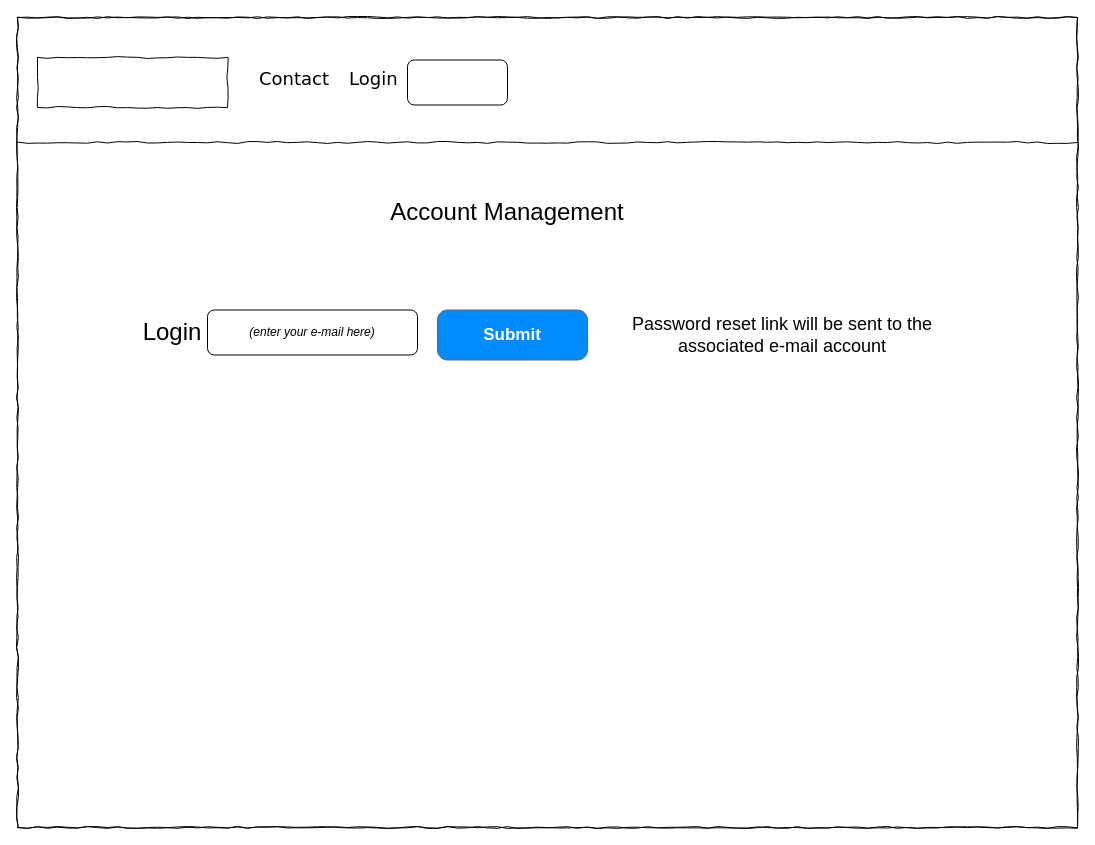
Some shapes in this 1095 by 845 pixel diagram are drawn without their labels. Each missing label, with the centre of its shape:
"Account" belongs at point (457, 82).
"To-Do-List" belongs at point (132, 82).
